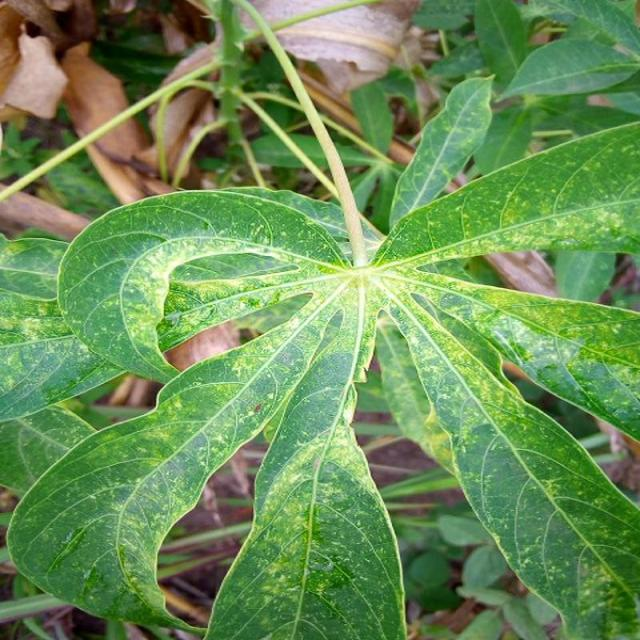cassava leaf: (3, 4, 638, 638)
